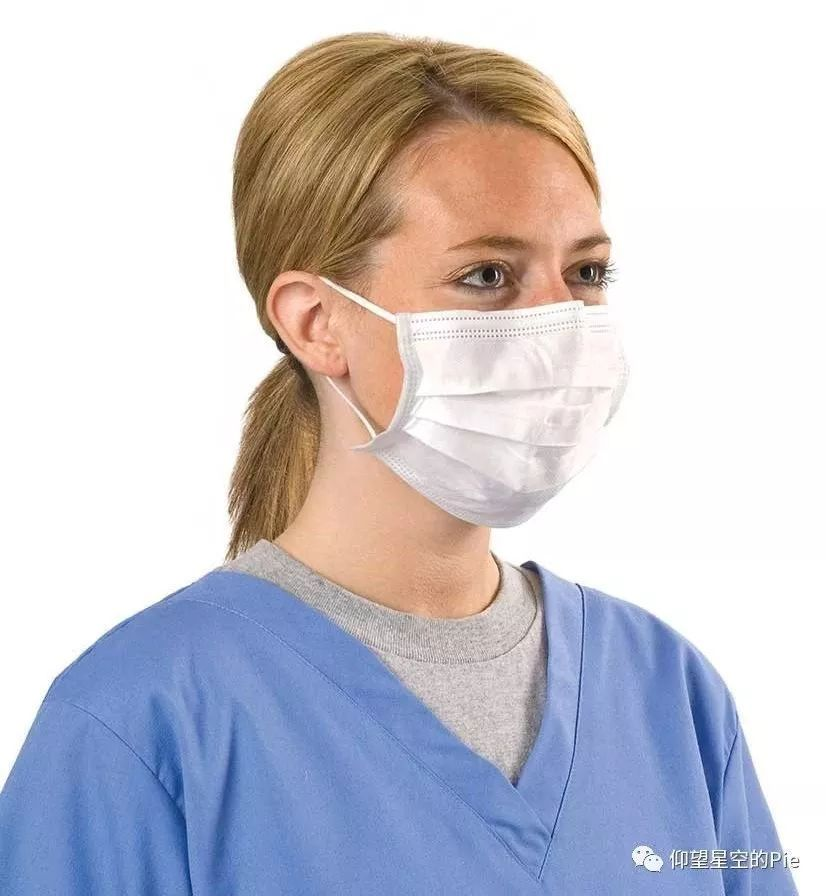mask: (329, 118, 642, 534)
